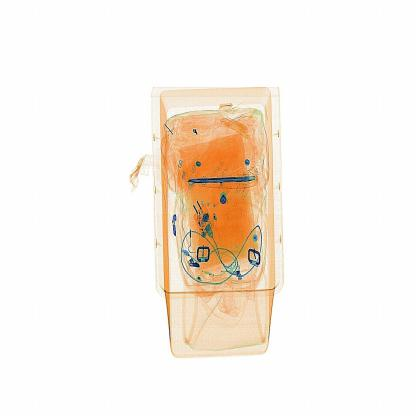pliers: (186, 171, 260, 191)
